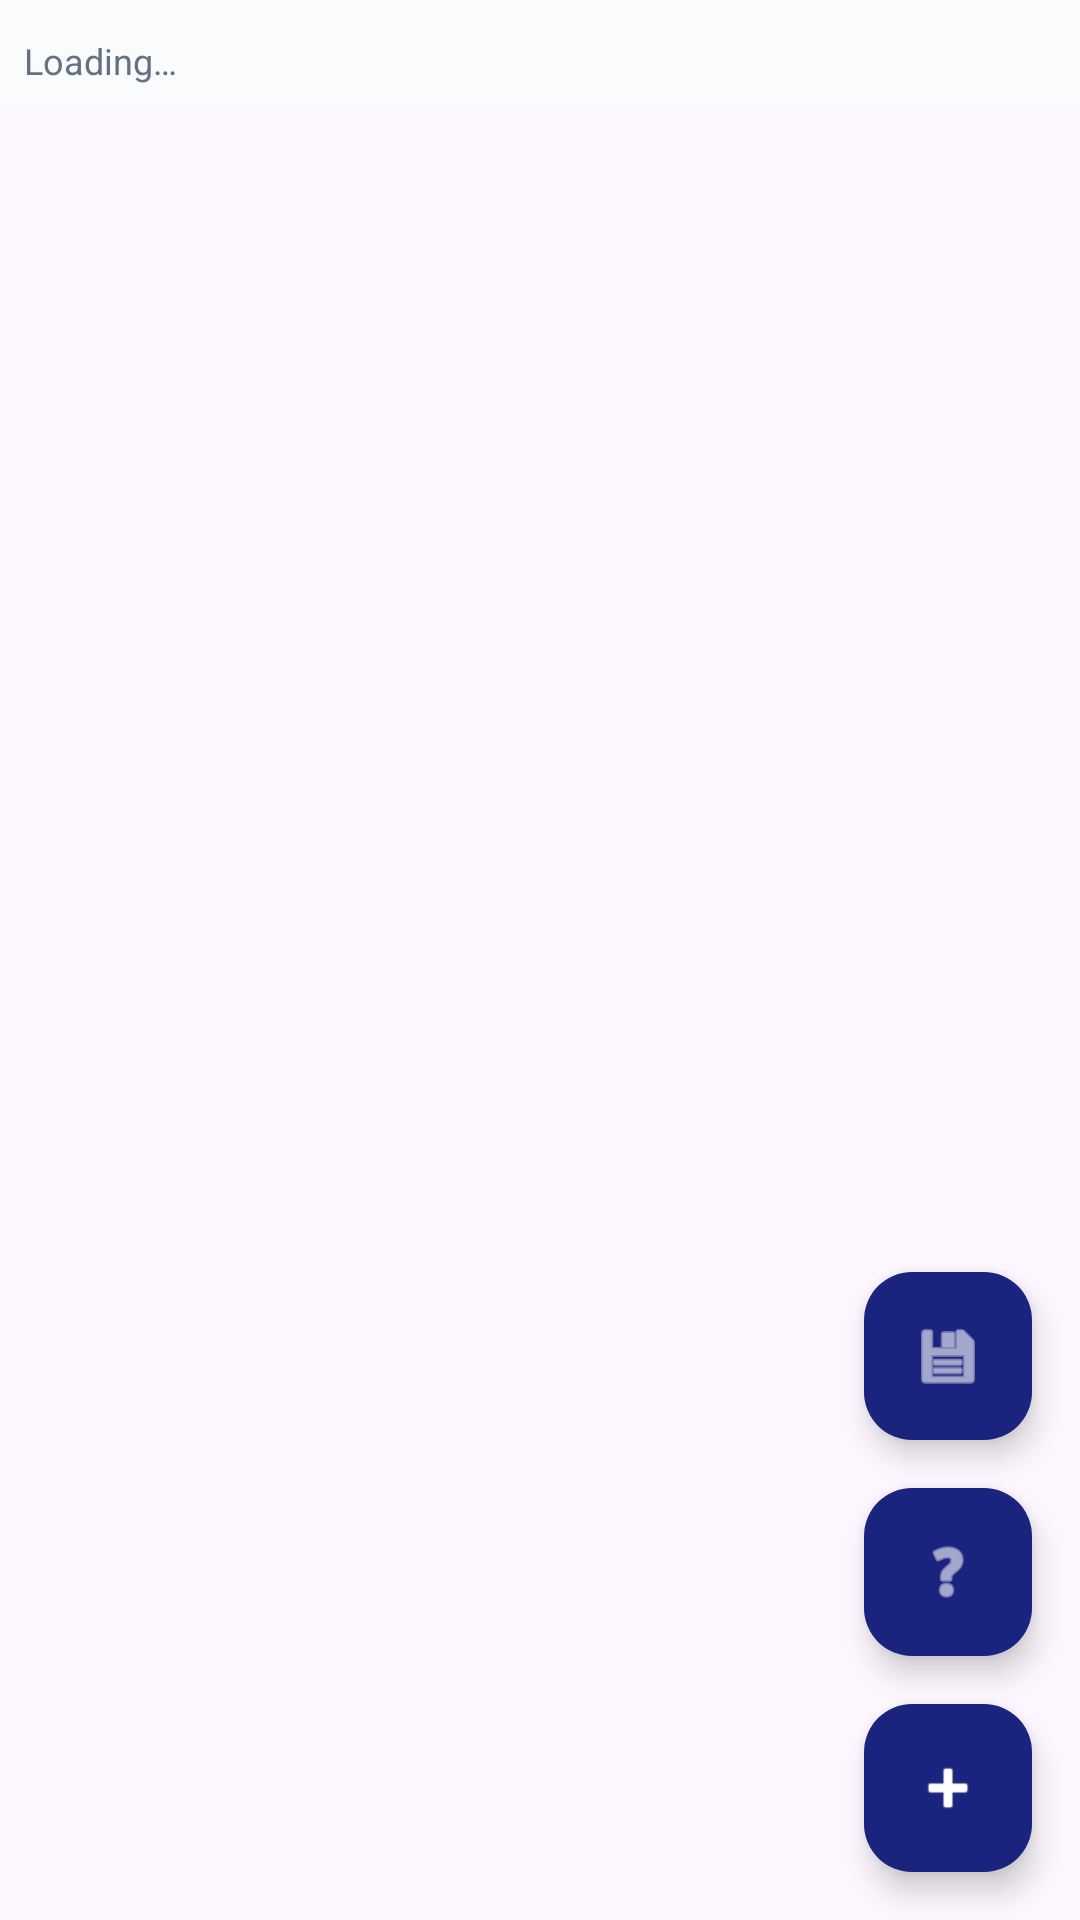

Screen size 1080x1920. Icon name, then its center in pixels as point (x, y):
Add Schedule: point (948, 1788)
